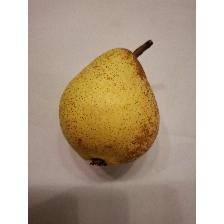Birne: (56, 37, 162, 172)
